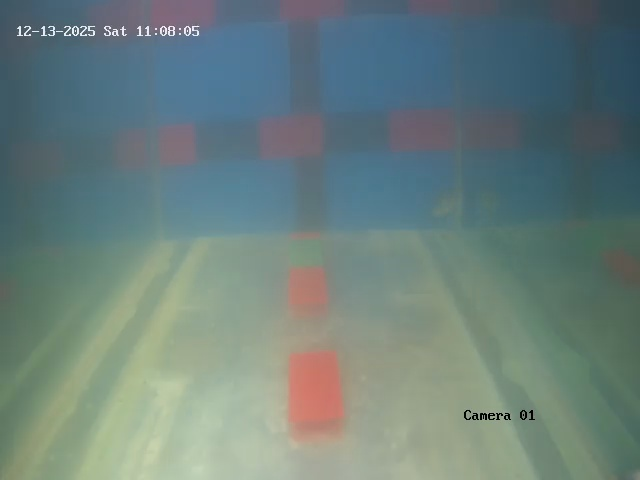fish: (428, 196, 456, 225)
